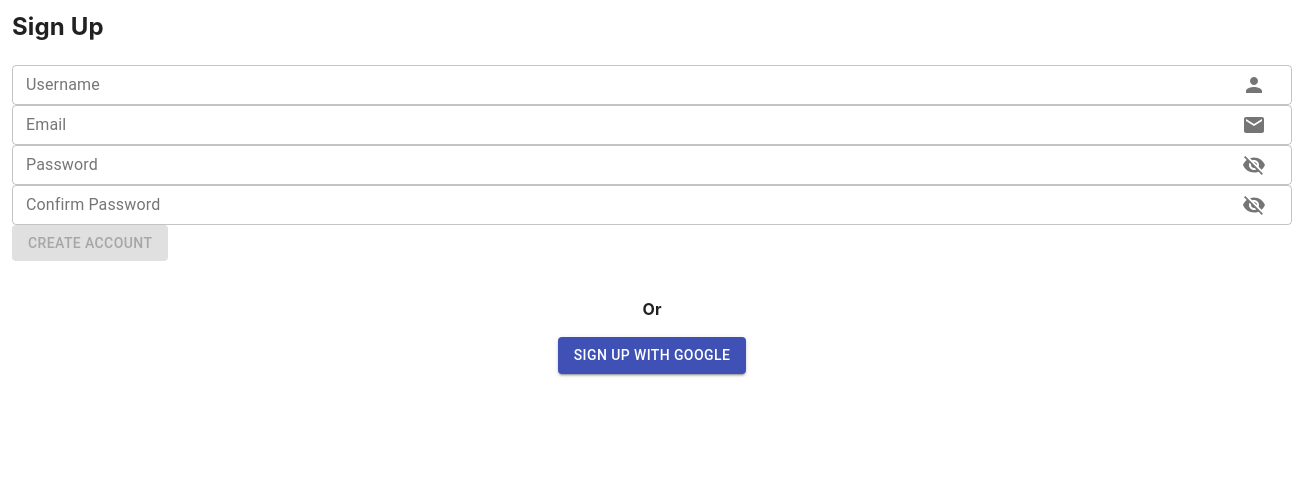
Test: SignUp Form › sets error on the field and disables the submit button if they have invalid data
Step 1. Type "No" into the field labelled "Username" → [617, 85], box [12,65,1222,105]
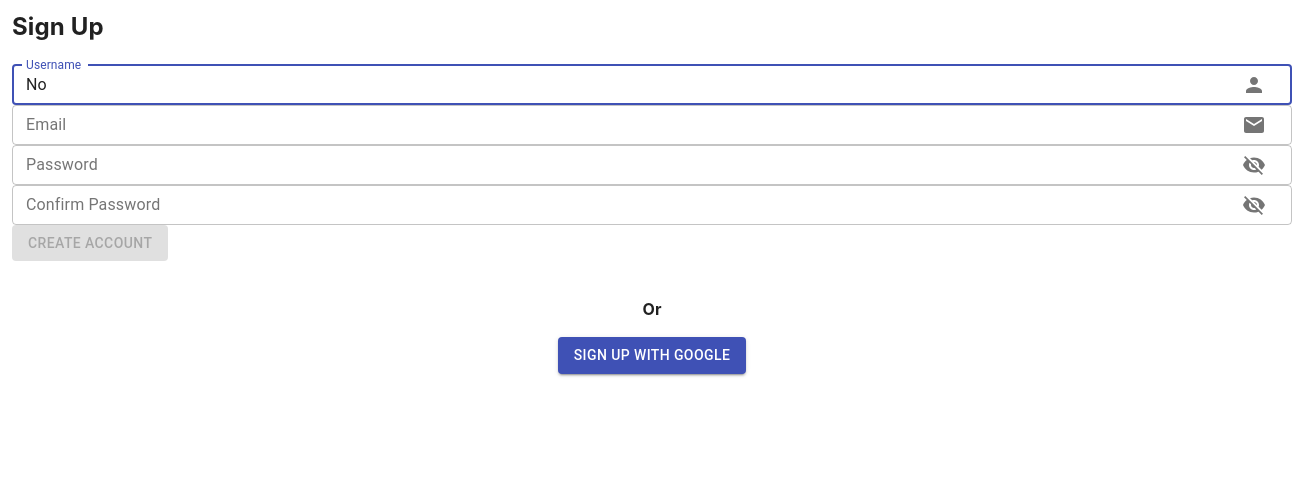
Step 2. Type "test@" into the field labelled "Email" → [617, 125], box [12,105,1222,145]
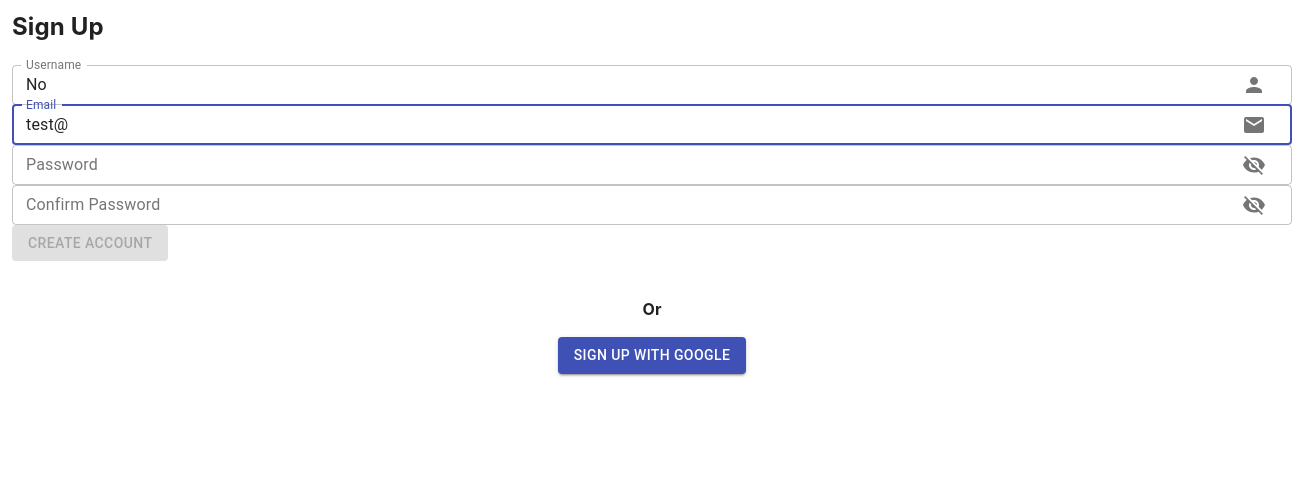
Step 3. Type "short" into the password field labelled "Password" → [617, 165], box [12,145,1222,185]
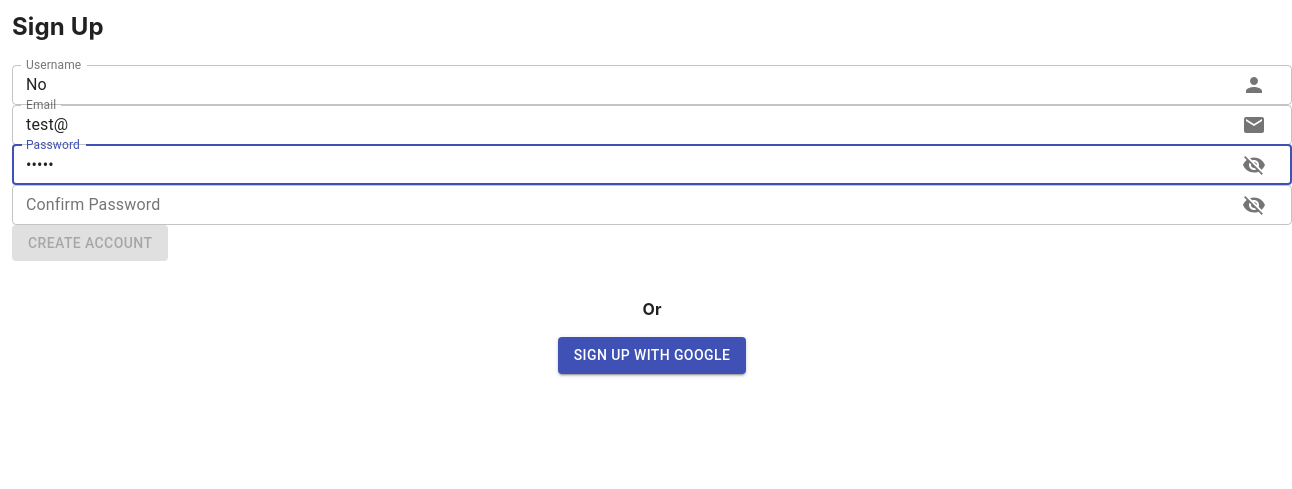
Step 4. Type "different" into the password field labelled "Confirm Password" → [617, 205], box [12,185,1222,225]
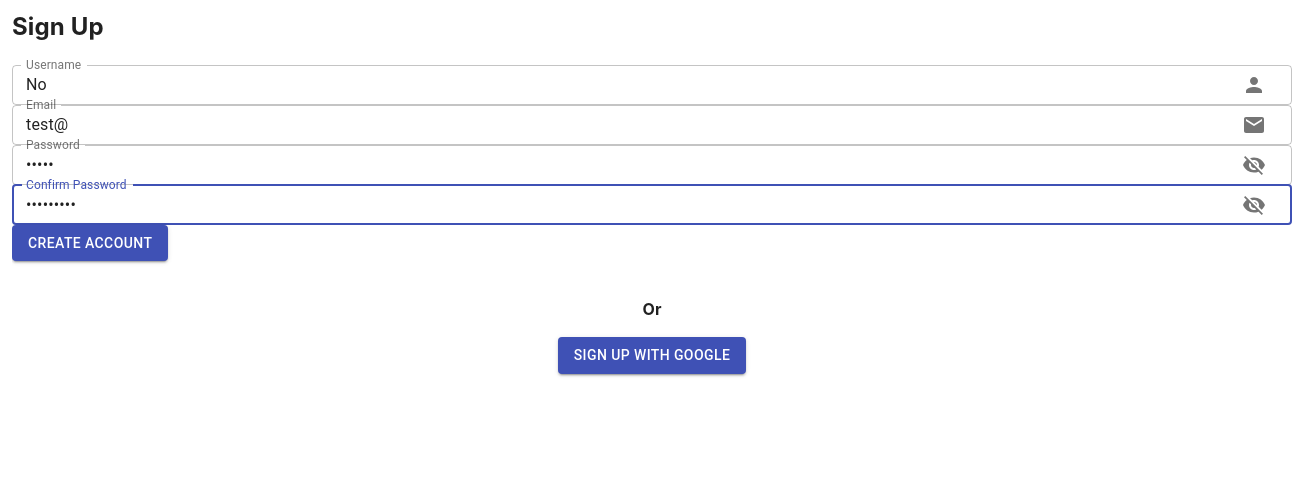
Step 5. Leave the password field labelled "Confirm Password", box [12,185,1222,225]
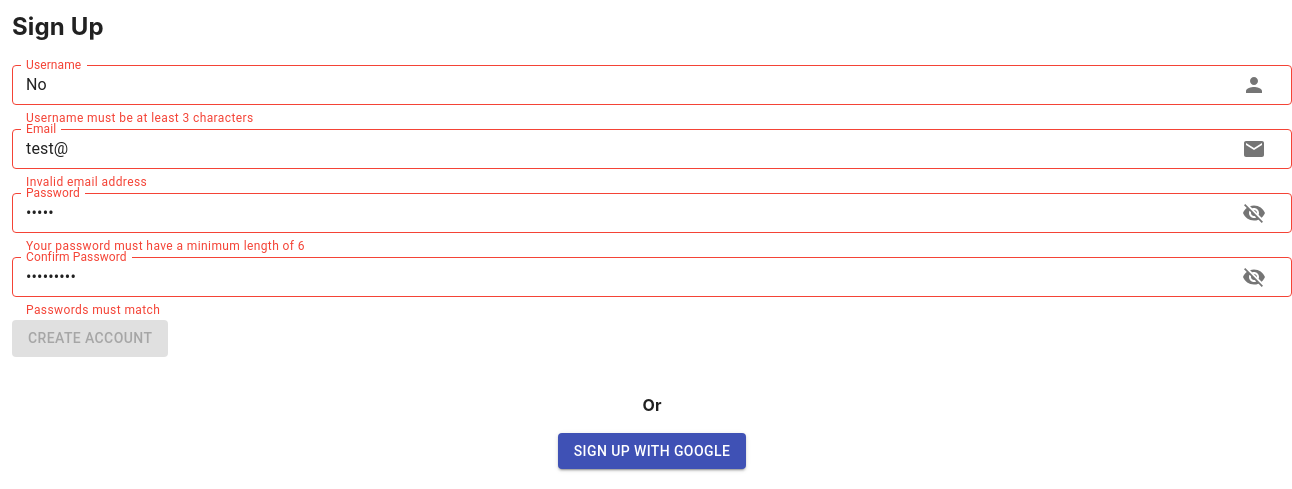
Expected: the text "Username must be at least 3 characters" is shown, [26,111,254,125]
Expected: the text "Invalid email address" is shown, [26,175,147,189]
Expected: the text "Your password must have a minimum length of 6" is shown, [26,239,305,253]
